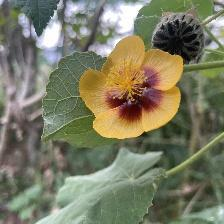indian mallow: (79, 35, 187, 142)
